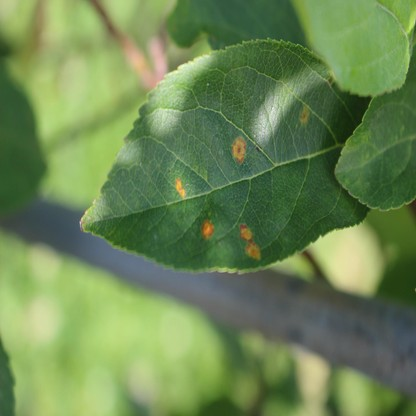rust: (239, 223, 261, 259), (233, 137, 244, 161), (175, 179, 186, 196), (201, 221, 213, 235), (300, 106, 310, 122)
